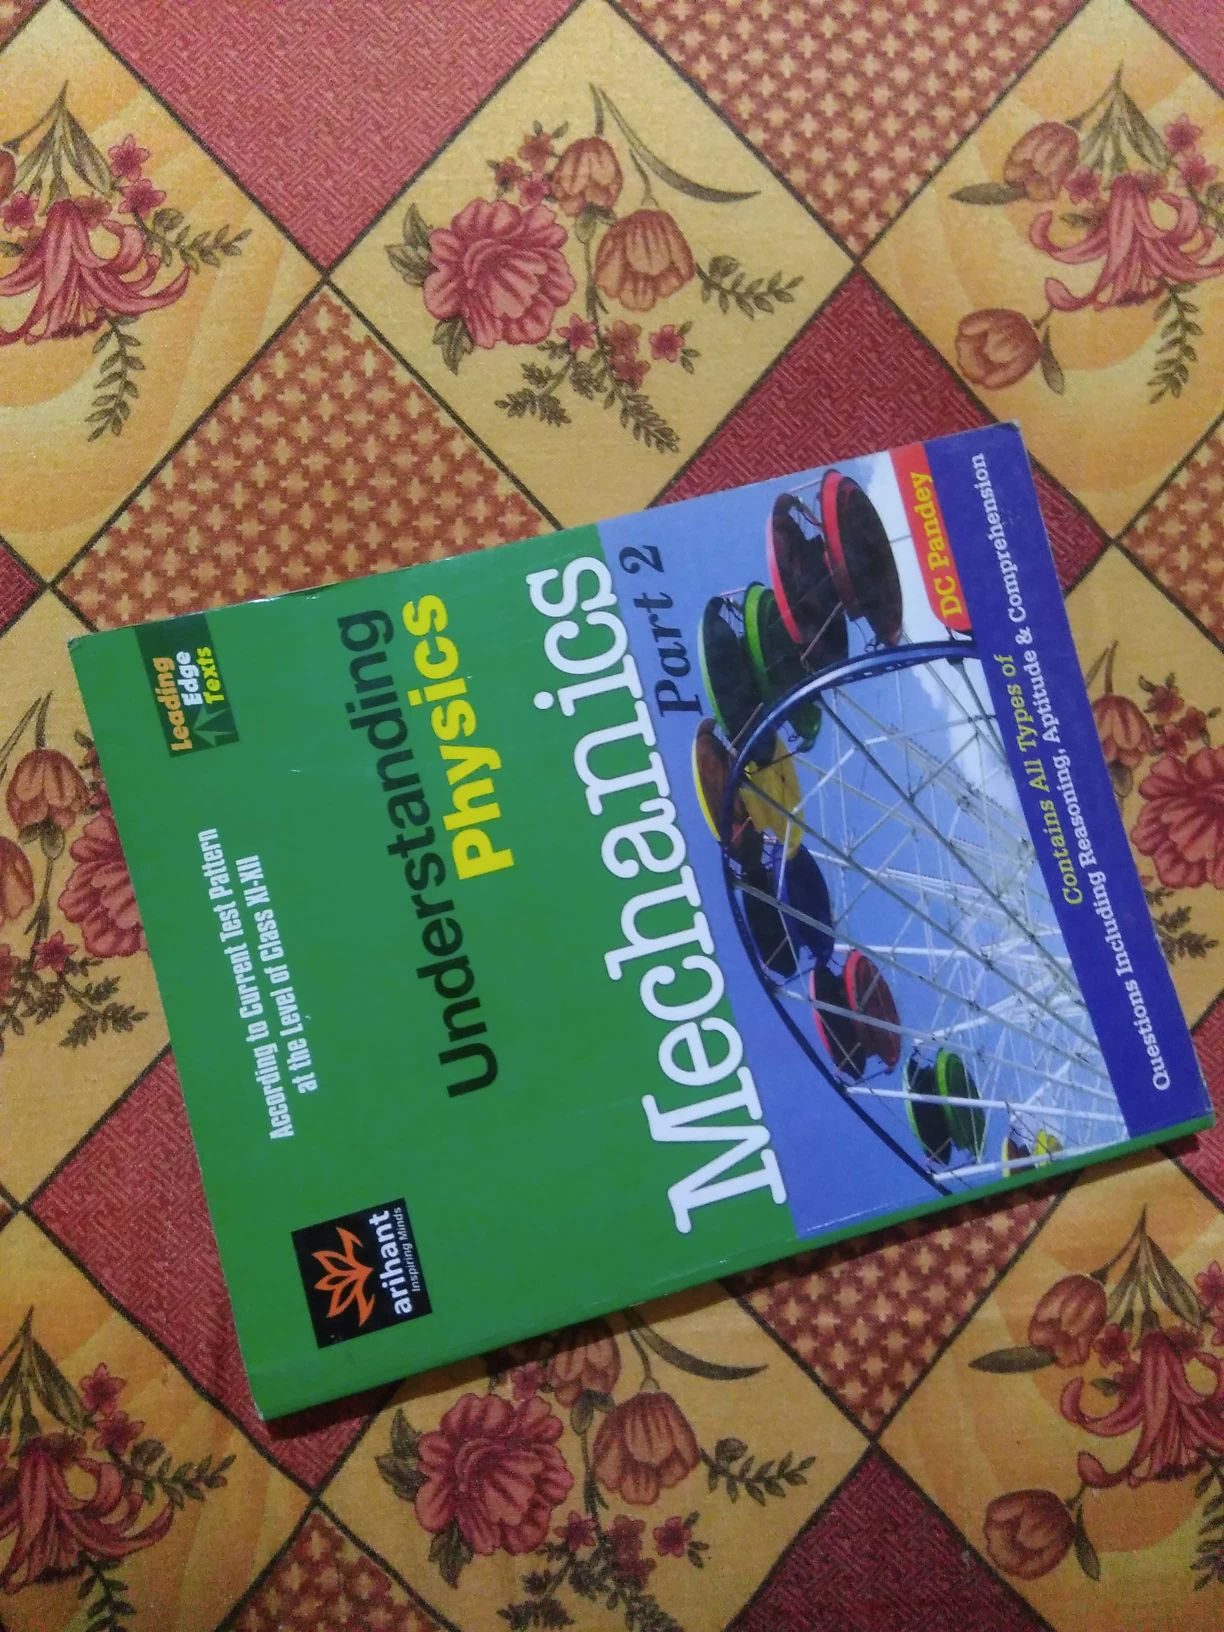mechanics: (51, 483, 1198, 1336)
